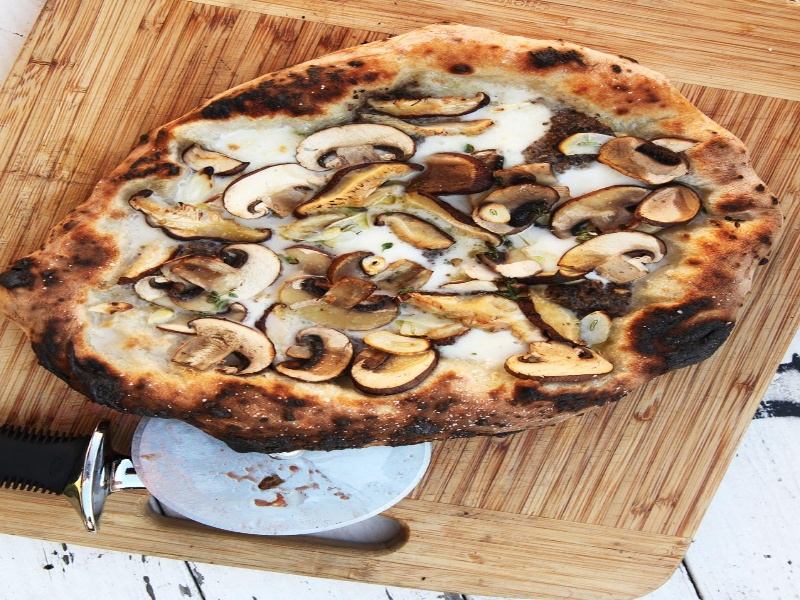champignon: (166, 243, 283, 316), (173, 313, 280, 387), (290, 118, 425, 175), (554, 228, 669, 288), (218, 161, 330, 221), (595, 128, 704, 186), (500, 338, 619, 387), (275, 322, 357, 393)
